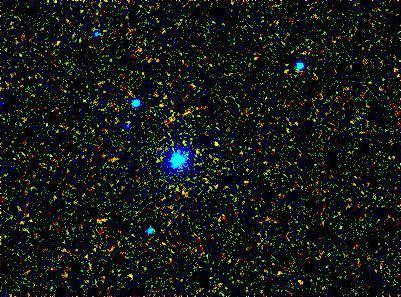star: (203, 127, 233, 157)
